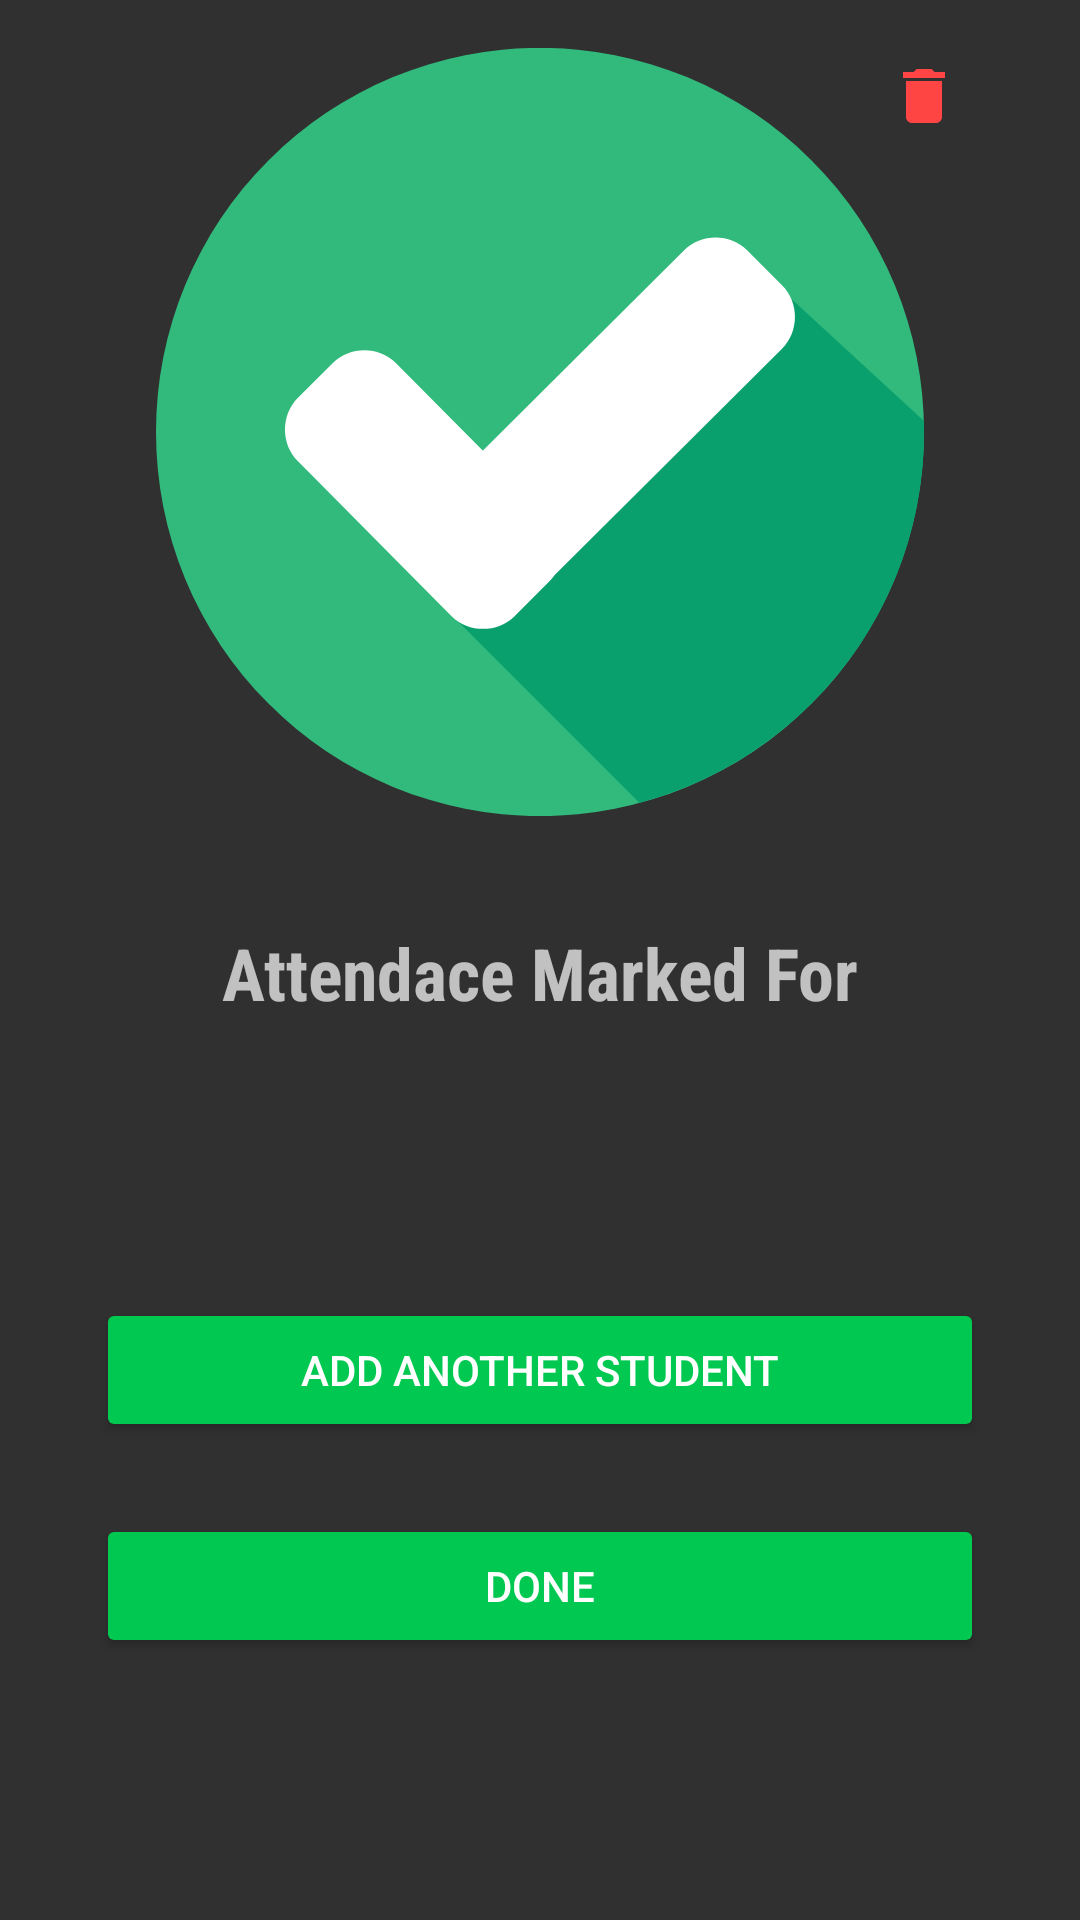

Named icons in this screenshot (1080px x 1920px) and their centers, (x=x, y=y):
delete: (x=924, y=96)
